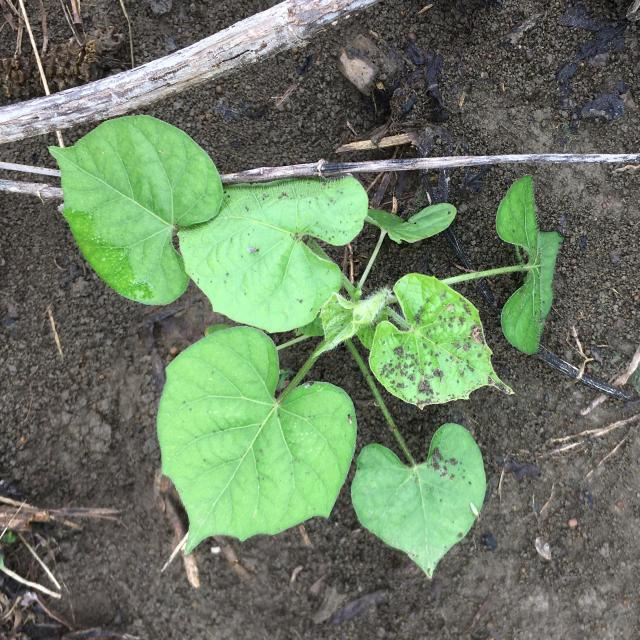MorningGlory: (47, 114, 563, 579)
